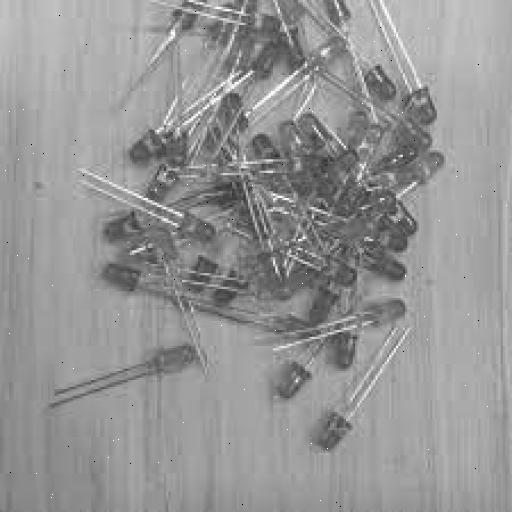LED: (62, 0, 446, 453)
